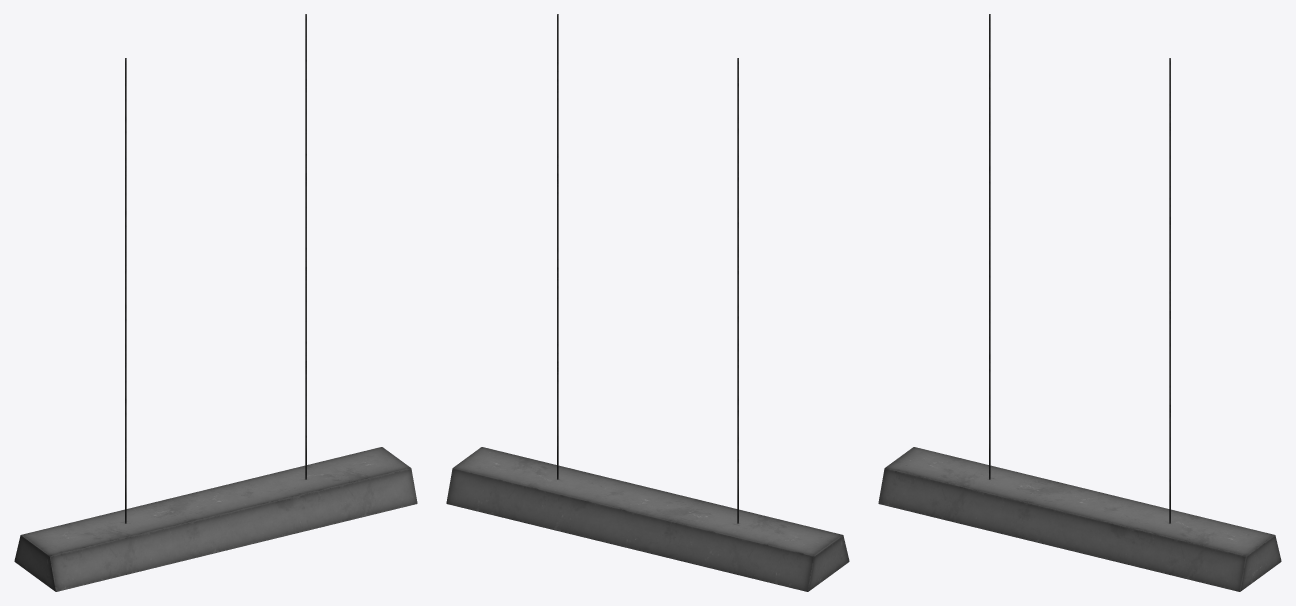
File: ceilingLight.fbx
3 renders of one model, left to right at view 1: azimuth 30°, elevation 25°; view 2: azimuth 150°, elevation 25°; view 3: azimuth 330°, elevation 25°, orthographic.
Parts seen in each view (by area): view 1: ceilingLight; view 2: ceilingLight; view 3: ceilingLight.
Boxes of the visible parts, x1=… form: ceilingLight: x1=14, y1=14, x2=417, y2=591; ceilingLight: x1=446, y1=14, x2=849, y2=591; ceilingLight: x1=878, y1=14, x2=1281, y2=591.
Bounding box in the file's own units: 84.36 × 16.82 × 111.
